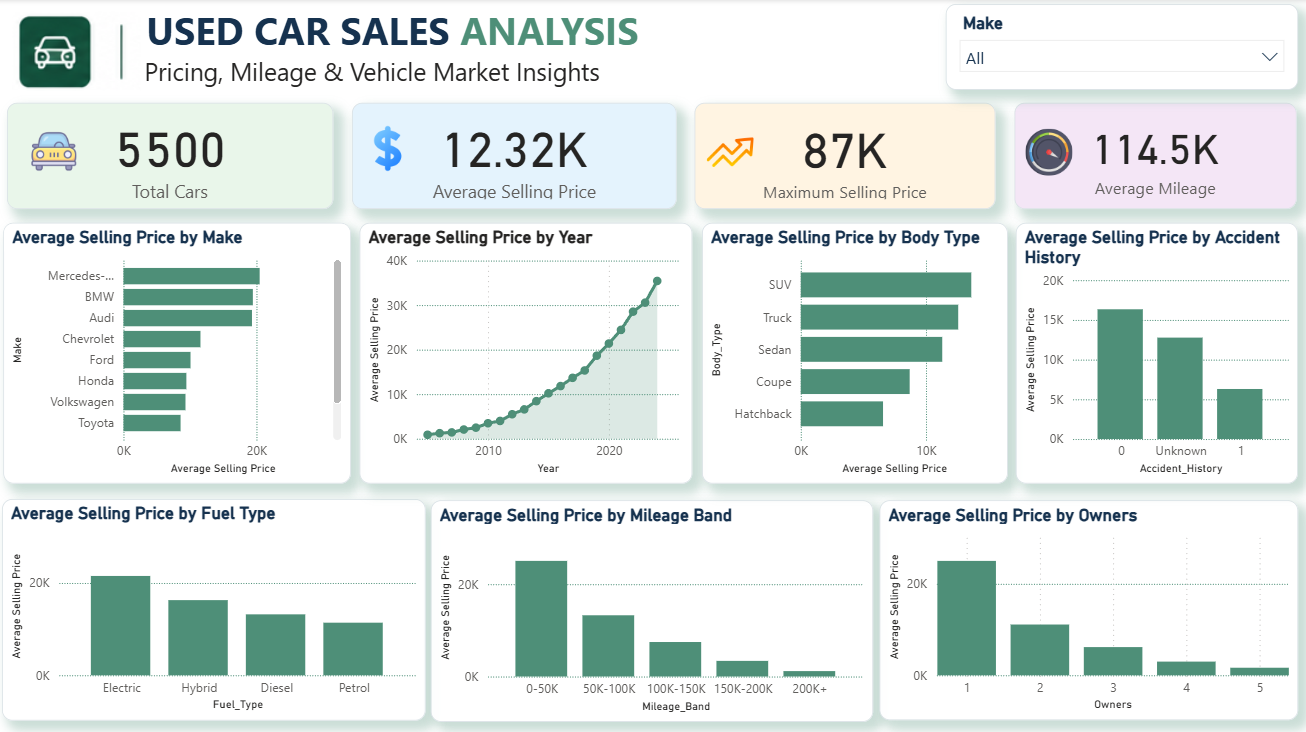

Layout of this report page (visuals, bound fields, positions):
{"tool":"powerbi","page":{"name":"Page 1","canvas":[1280,720],"ordinal":0},"visuals":[{"type":"card","fields":{"Values":["Cleaned_Data.Total Cars"]},"box":[9.8,101.5,319.2,103.9],"z":0},{"type":"card","fields":{"Values":["Cleaned_Data.Average Selling Price"]},"box":[347.3,101.5,317.9,103.9],"z":1000},{"type":"card","fields":{"Values":["Cleaned_Data.Maximum Selling Price"]},"box":[682.3,101.5,294.7,103.9],"z":2000},{"type":"card","fields":{"Values":["Cleaned_Data.Average Mileage"]},"box":[994.9,101.9,276,103.7],"z":3000},{"type":"clusteredBarChart","title":"Average Selling Price by Make","fields":{"Category":["Cleaned_Data.Make"],"Y":["Cleaned_Data.Average Selling Price"]},"box":[6.1,218.9,339.9,255.6],"z":4000},{"type":"clusteredColumnChart","title":"Average Selling Price by Fuel Type","fields":{"Category":["Cleaned_Data.Fuel_Type"],"Y":["Cleaned_Data.Average Selling Price"]},"box":[4.9,489.1,414.5,216.4],"z":5000},{"type":"lineChart","title":"Average Selling Price by Year","fields":{"Category":["Cleaned_Data.Year"],"Y":["Cleaned_Data.Average Selling Price"]},"box":[354.6,218.9,325.3,255.6],"z":6000},{"type":"clusteredColumnChart","title":"Average Selling Price by Mileage Band","fields":{"Category":["Cleaned_Data.Mileage_Band"],"Y":["Cleaned_Data.Average Selling Price"]},"box":[424.3,490.4,432.9,216.4],"z":7000},{"type":"clusteredBarChart","title":"Average Selling Price by Body Type","fields":{"Category":["Cleaned_Data.Body_Type"],"Y":["Cleaned_Data.Average Selling Price"]},"box":[689.7,218.9,299.6,255.6],"z":8000},{"type":"clusteredColumnChart","title":"Average Selling Price by Owners","fields":{"Category":["Cleaned_Data.Owners"],"Y":["Cleaned_Data.Average Selling Price"]},"box":[863.3,490.4,409.6,215.2],"z":9000},{"type":"clusteredColumnChart","title":"Average Selling Price by Accident History","fields":{"Category":["Cleaned_Data.Accident_History"],"Y":["Cleaned_Data.Average Selling Price"]},"box":[996.6,218.9,276.4,255.6],"z":10000},{"type":"textbox","box":[0,0,733.7,92.9],"z":11000},{"type":"slicer","fields":{"Values":["Cleaned_Data.Make"]},"box":[928.1,4.9,344.8,84.4],"z":12000},{"type":"image","box":[354.6,118.6,55,55],"z":13000},{"type":"image","box":[20.8,118.6,70.9,55],"z":14000},{"type":"image","box":[689.7,122.3,55,55],"z":15000},{"type":"image","box":[1001.5,122.3,55,55],"z":16000},{"type":"image","box":[9.8,0,135.7,101.5],"z":17000}]}

Visuals, with their boxes in screenshot pixels (x1, y1, x2, y2), scaled from the page's 1280x720 canvas onto the 1306x732 screenshot:
card - Cleaned_Data.Total Cars: (x1=10, y1=103, x2=336, y2=209)
card - Cleaned_Data.Average Selling Price: (x1=354, y1=103, x2=679, y2=209)
card - Cleaned_Data.Maximum Selling Price: (x1=696, y1=103, x2=997, y2=209)
card - Cleaned_Data.Average Mileage: (x1=1015, y1=104, x2=1297, y2=209)
"Average Selling Price by Make" clusteredBarChart: (x1=6, y1=223, x2=353, y2=482)
"Average Selling Price by Fuel Type" clusteredColumnChart: (x1=5, y1=497, x2=428, y2=717)
"Average Selling Price by Year" lineChart: (x1=362, y1=223, x2=694, y2=482)
"Average Selling Price by Mileage Band" clusteredColumnChart: (x1=433, y1=499, x2=875, y2=719)
"Average Selling Price by Body Type" clusteredBarChart: (x1=704, y1=223, x2=1009, y2=482)
"Average Selling Price by Owners" clusteredColumnChart: (x1=881, y1=499, x2=1299, y2=717)
"Average Selling Price by Accident History" clusteredColumnChart: (x1=1017, y1=223, x2=1299, y2=482)
textbox: (x1=0, y1=0, x2=749, y2=94)
slicer - Cleaned_Data.Make: (x1=947, y1=5, x2=1299, y2=91)
image: (x1=362, y1=121, x2=418, y2=176)
image: (x1=21, y1=121, x2=94, y2=176)
image: (x1=704, y1=124, x2=760, y2=180)
image: (x1=1022, y1=124, x2=1078, y2=180)
image: (x1=10, y1=0, x2=148, y2=103)
